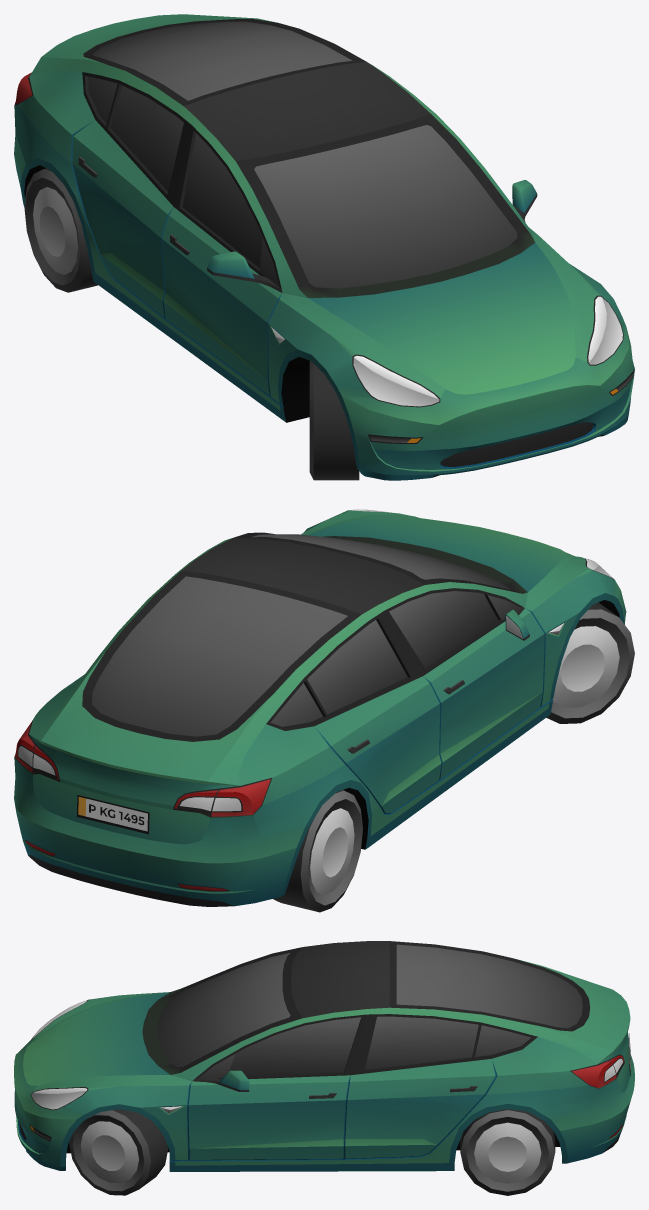
3 renders of one model, top to bottom at view 1: azimuth 30°, elevation 25°; view 2: azimuth 150°, elevation 25°; view 3: azimuth 270°, elevation 25°, orthographic. The views are drawn at different scales.
Visible parts, largest first — view 1: Body.001_Vehicle_0; view 2: Body.001_Vehicle_0, Registration Plate.001_Registration Plate_0; view 3: Body.001_Vehicle_0.
Boxes of the visible parts, <box> form: Body.001_Vehicle_0: <box>14,14,634,480</box>; Body.001_Vehicle_0: <box>14,509,634,912</box>; Registration Plate.001_Registration Plate_0: <box>76,795,149,834</box>; Body.001_Vehicle_0: <box>14,941,634,1195</box>.
Size of the model in its own units: 212 by 143 by 463.
Materials: 2 (2 with a texture image).
